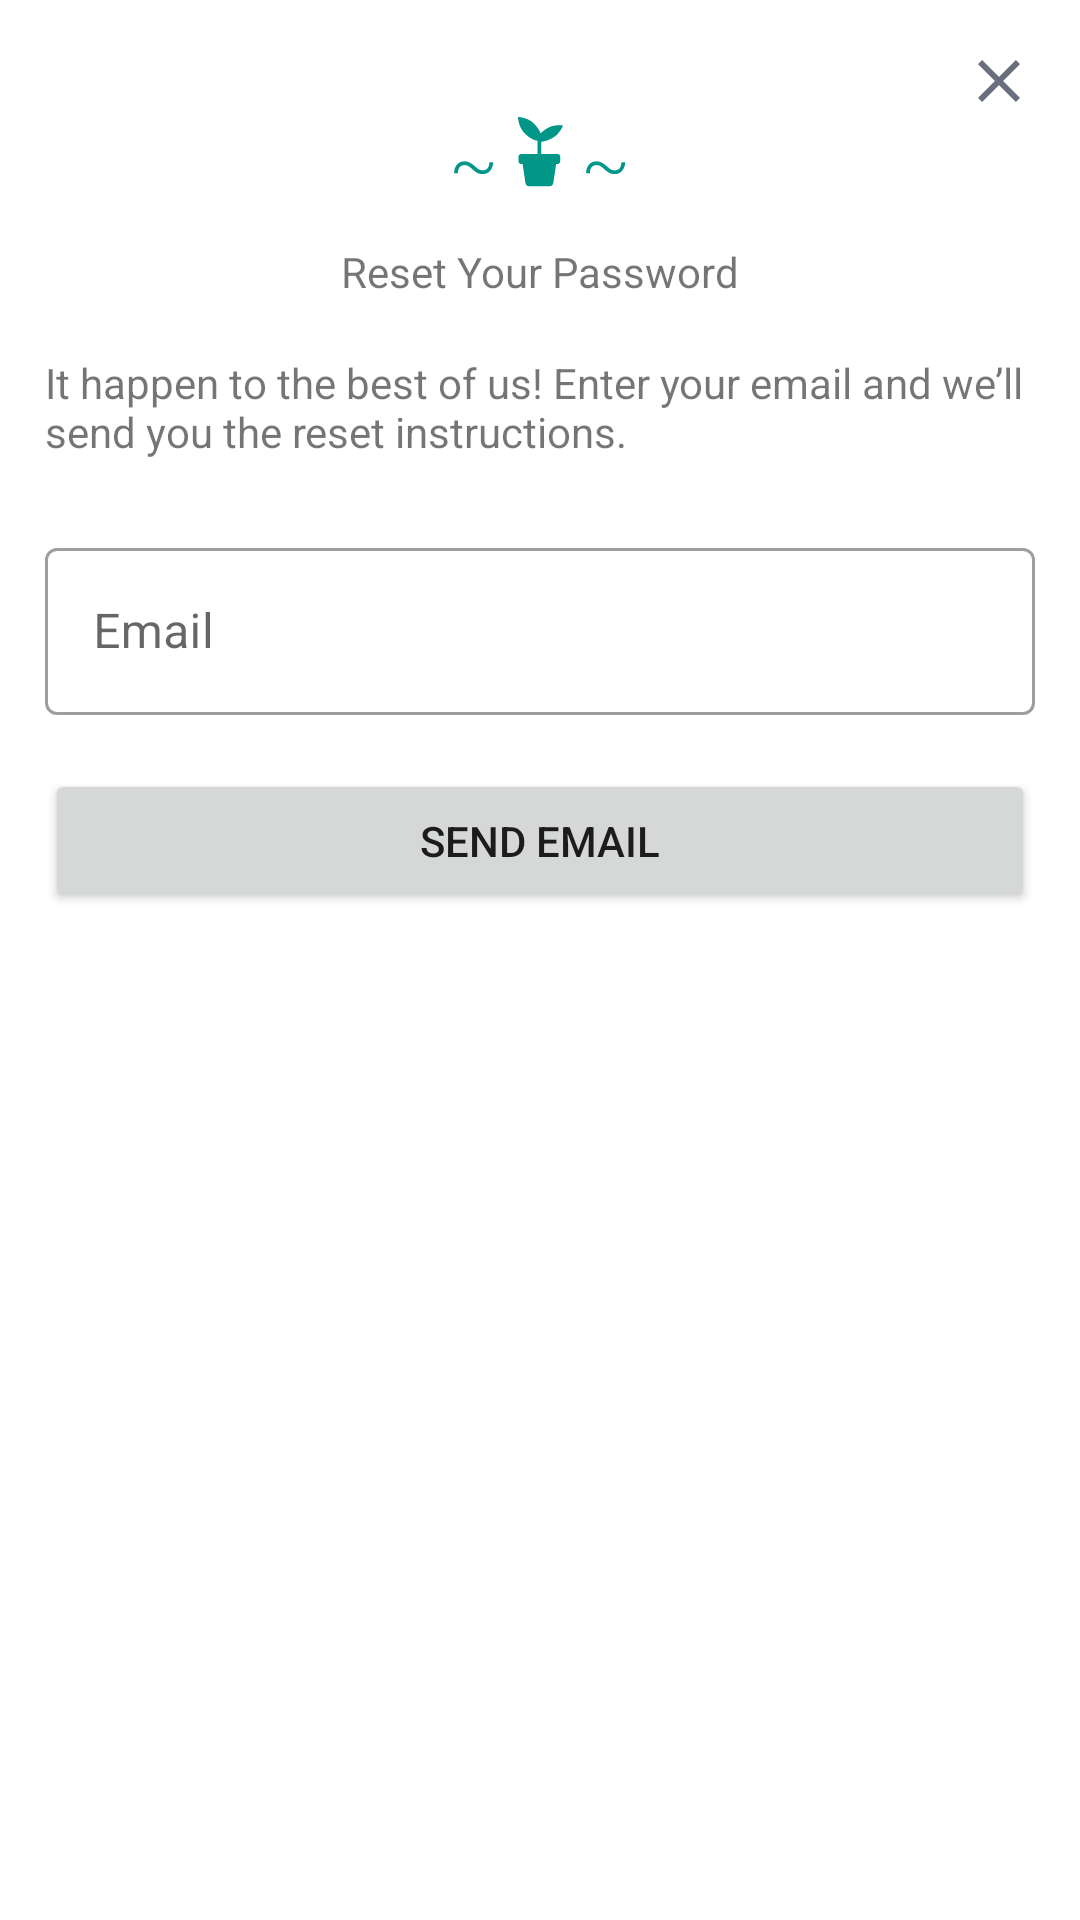

Named icons in this screenshot (1080*1920) and their centers, point (x, y):
close: point (999, 81)
plant: point (539, 152)
